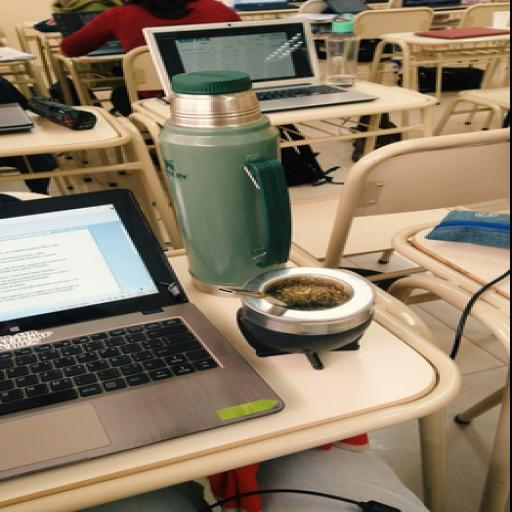mate: (236, 264, 378, 373)
termo: (150, 66, 288, 278)
